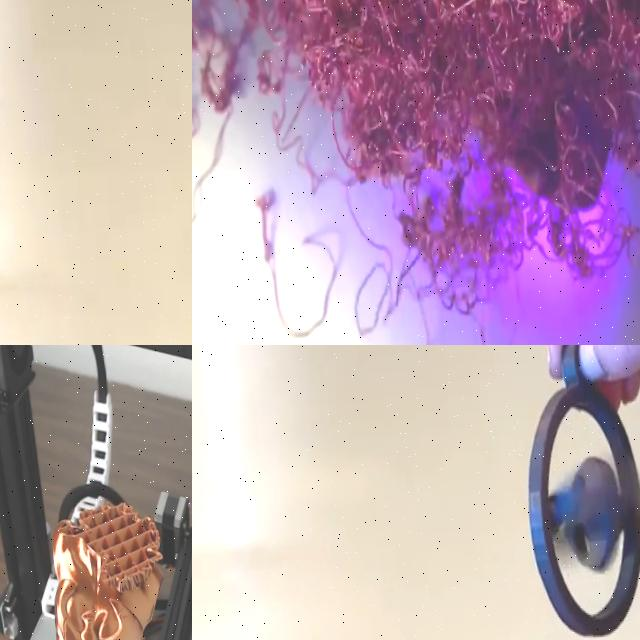spaghetti: (395, 156, 634, 345), (253, 189, 335, 340), (192, 0, 238, 141)
